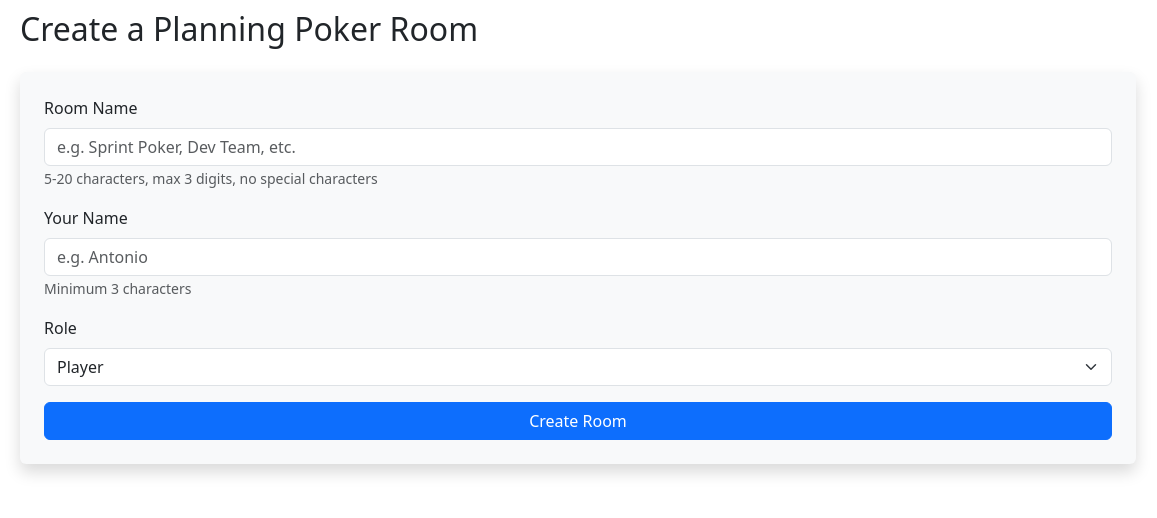
Test case: Home Component - Comprehensive Test › Name field validation › clears error when user starts typing
Type "ValidRoom" into the field with placeholder "e.g. Sprint Poker, Dev Team, etc.".
click(578, 147); type("ValidRoom")  # box 44,128 -> 1112,166
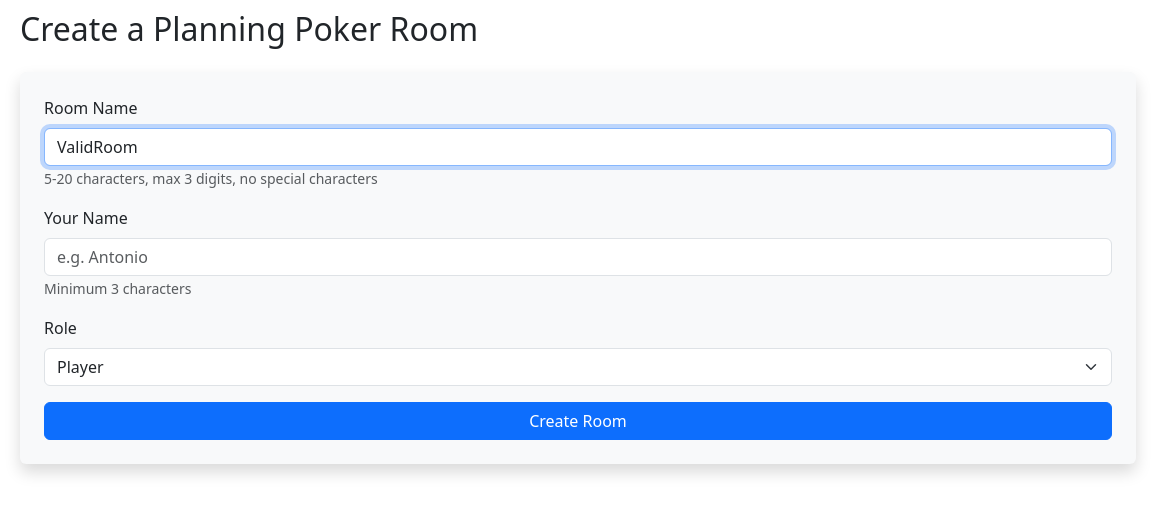
Type "Anto" into the field with placeholder "e.g. Antonio".
click(578, 257); type("Anto")  # box 44,238 -> 1112,276
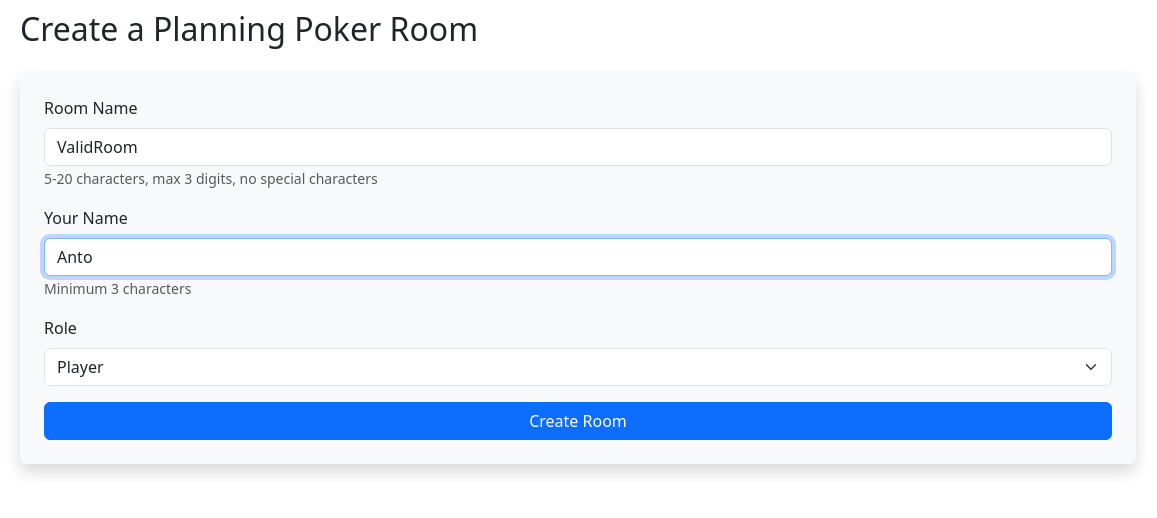
Click the button "Create Room".
click(578, 421)  # box 44,402 -> 1112,440
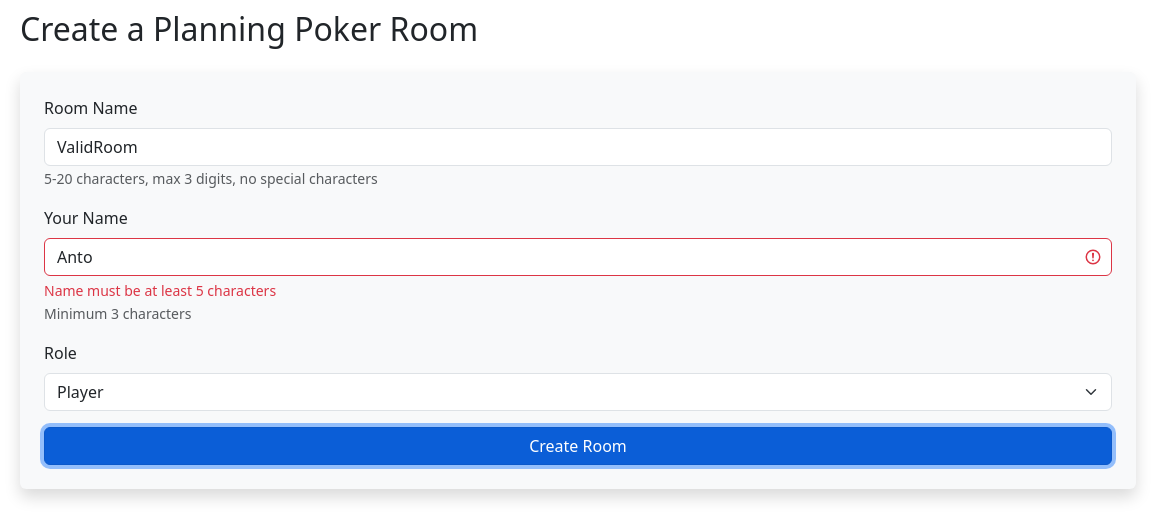
Now the text "Name must be at least 5 characters" is shown, box 44,281 -> 276,300
Type "n" into the field with placeholder "e.g. Antonio" below "Your Name".
click(578, 257); type("n")  # box 44,238 -> 1112,276
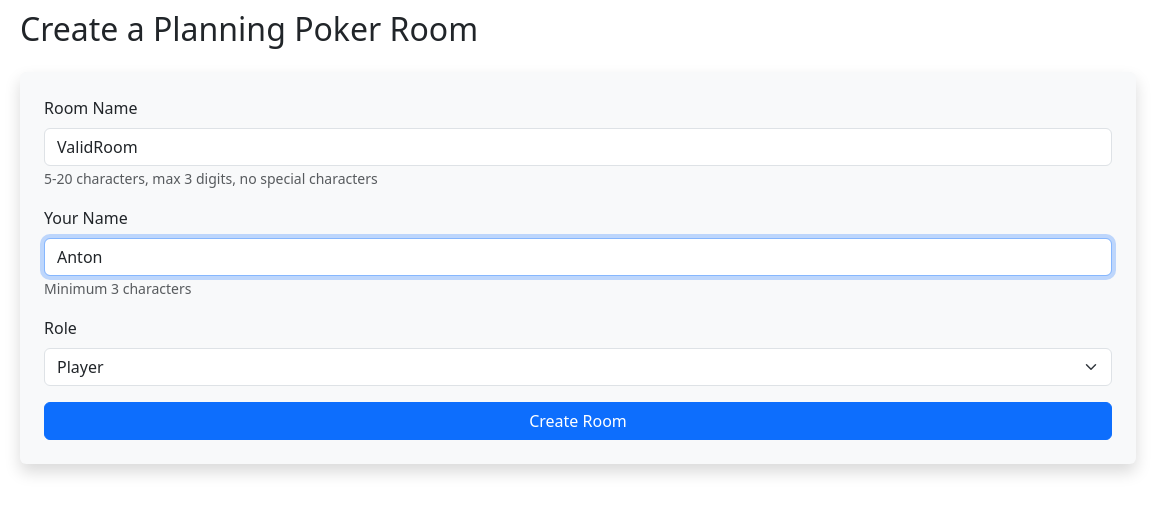
Now the text "Name must be at least 5 characters" is gone
